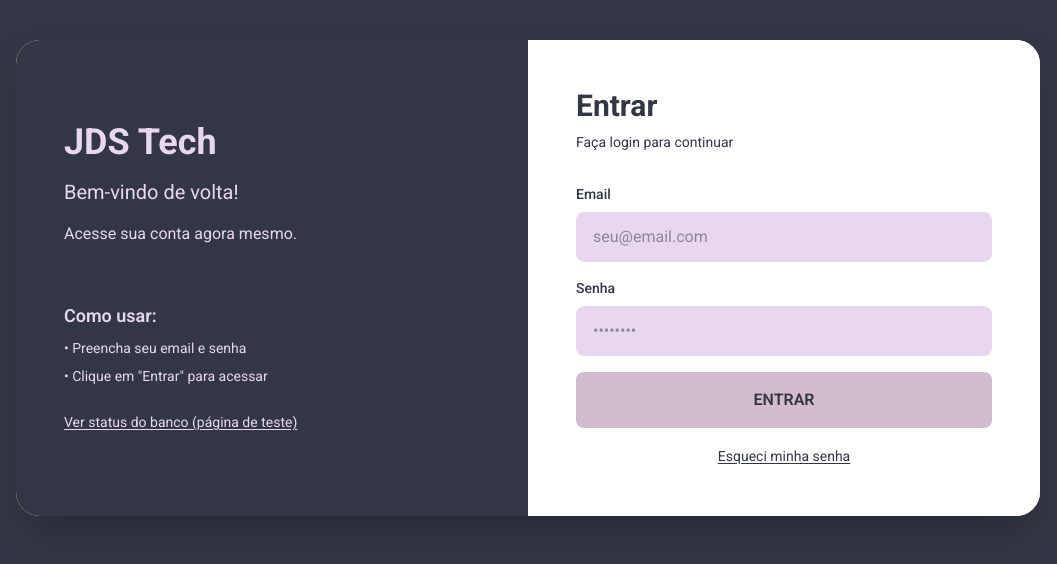
it: LoginPage › Validação de Campos › deve limpar erro quando usuário começa a digitar
This screenshot has width=1057, height=564.
Click the button "ENTRAR" at x=784, y=400, box 576,372 -> 992,428
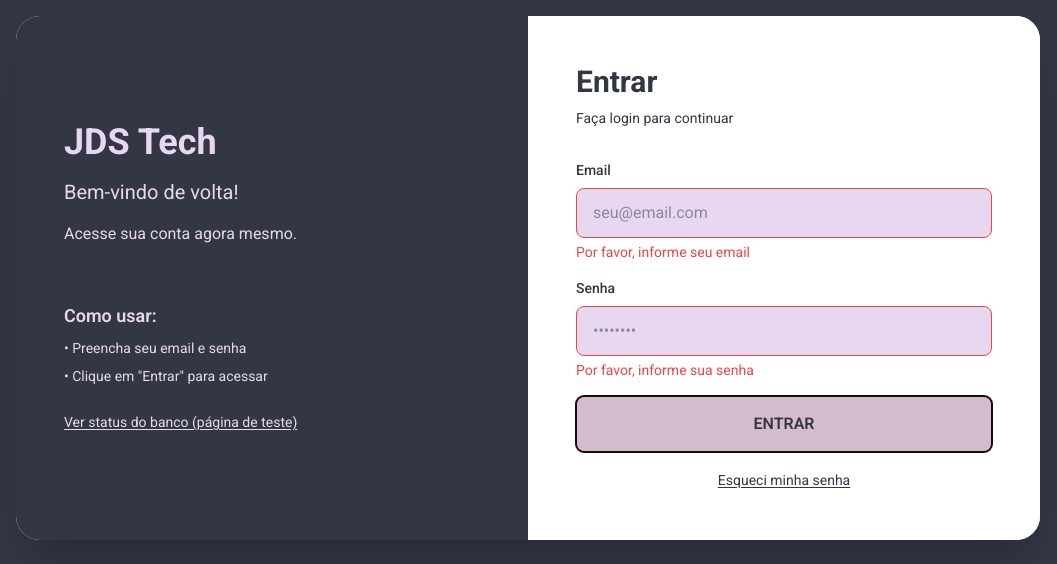
Expected: the text "Por favor, informe seu email" is shown, 576,244 -> 750,260
Type "t" into the field labelled "Email" at x=784, y=213, box 576,188 -> 992,238
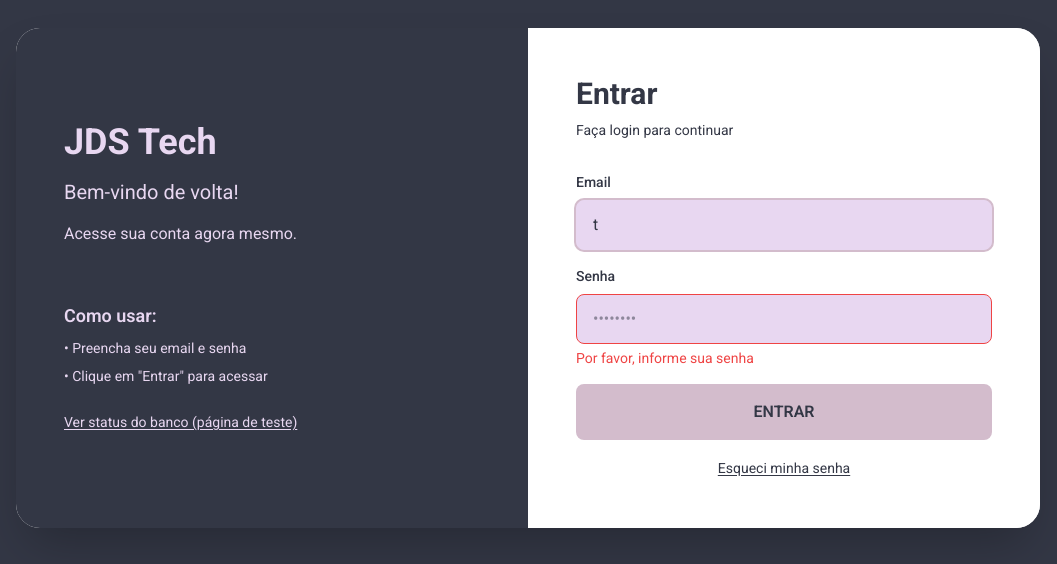
Expected: the text "Por favor, informe seu email" is gone
